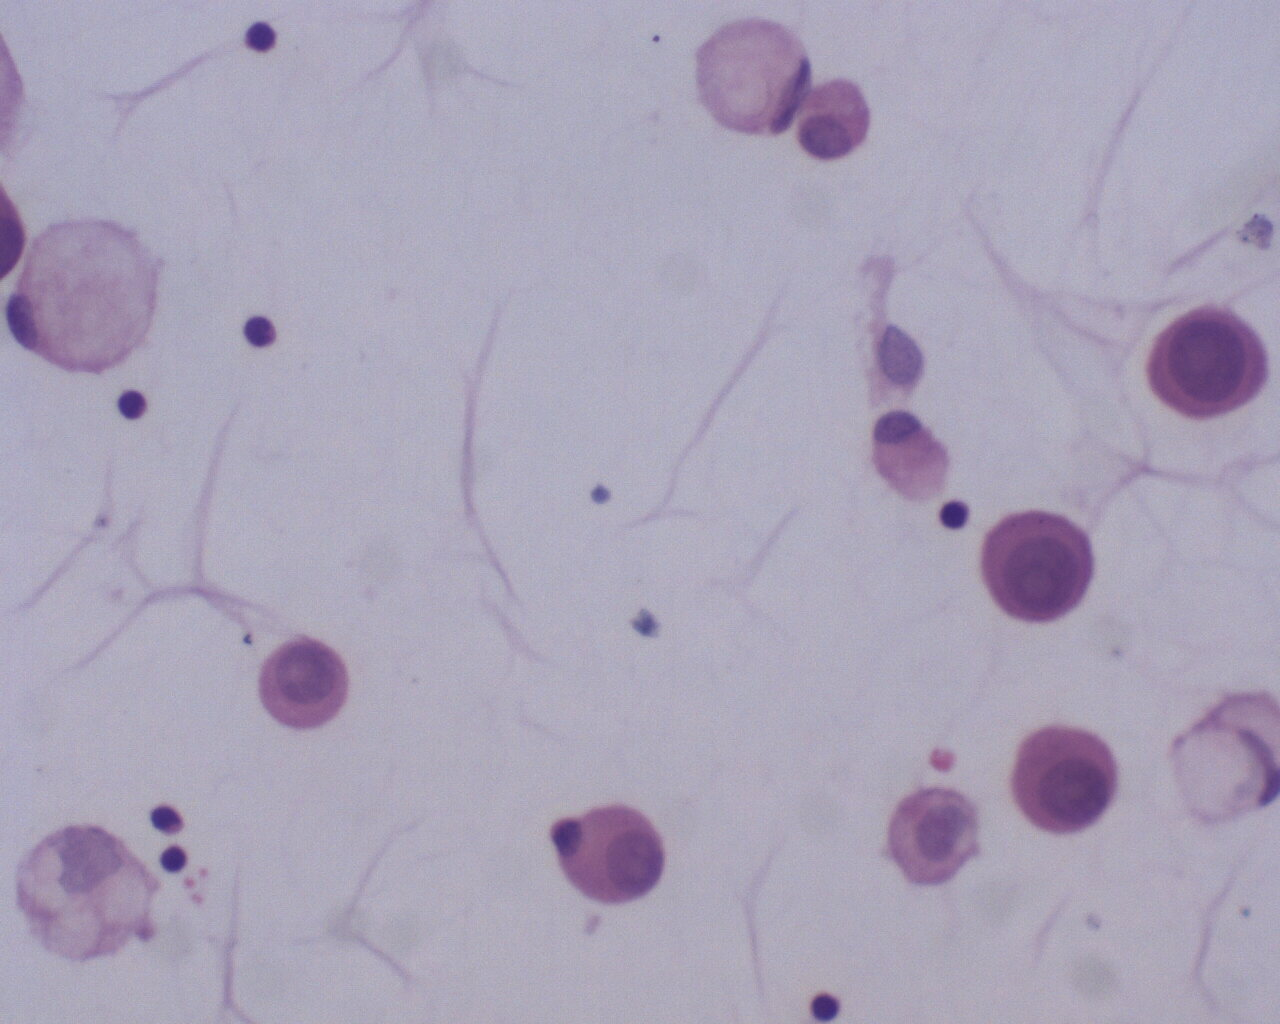ab: (1143, 303, 1275, 423), (978, 505, 1099, 625), (1007, 719, 1120, 840), (554, 797, 666, 909), (259, 634, 359, 734)
histo: (5, 211, 172, 376), (685, 15, 816, 140)
lymph: (111, 380, 156, 430), (932, 495, 978, 536), (238, 16, 280, 59), (243, 312, 284, 349), (158, 844, 199, 880)
